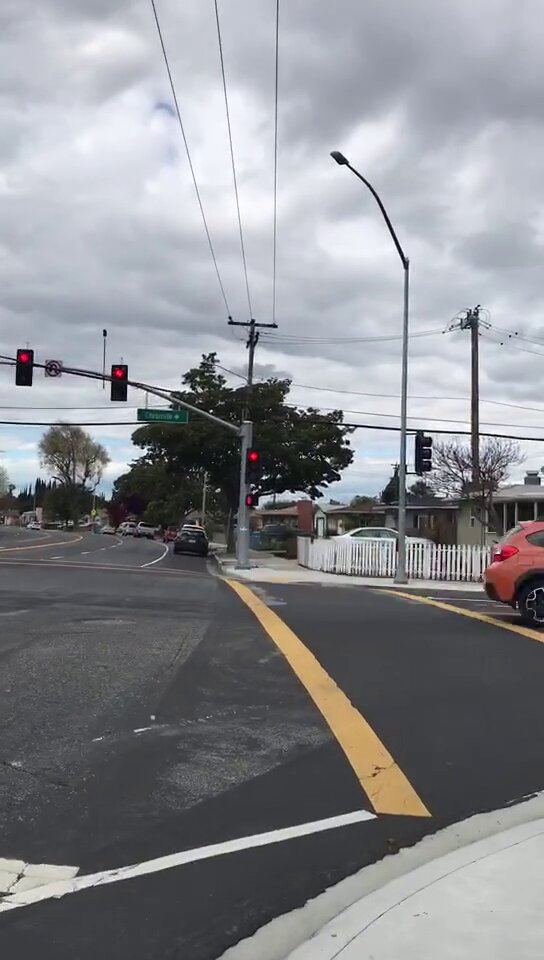red_light: (245, 448, 261, 484), (16, 349, 32, 385), (111, 365, 126, 397)
